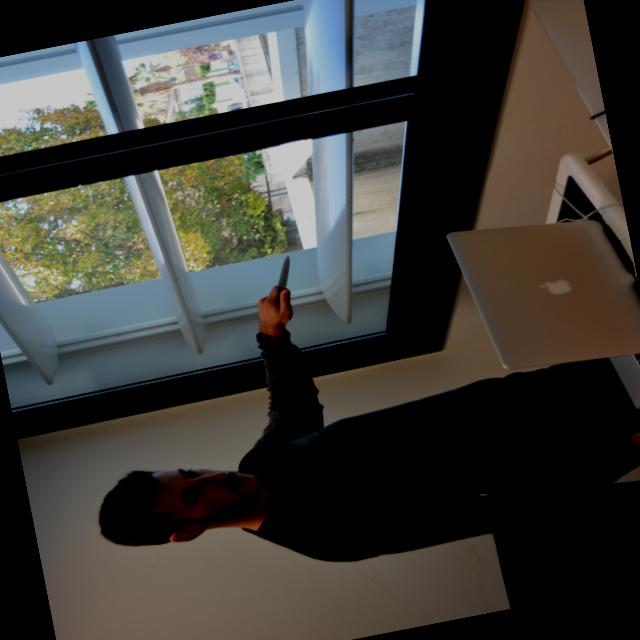knife: (262, 252, 301, 306)
